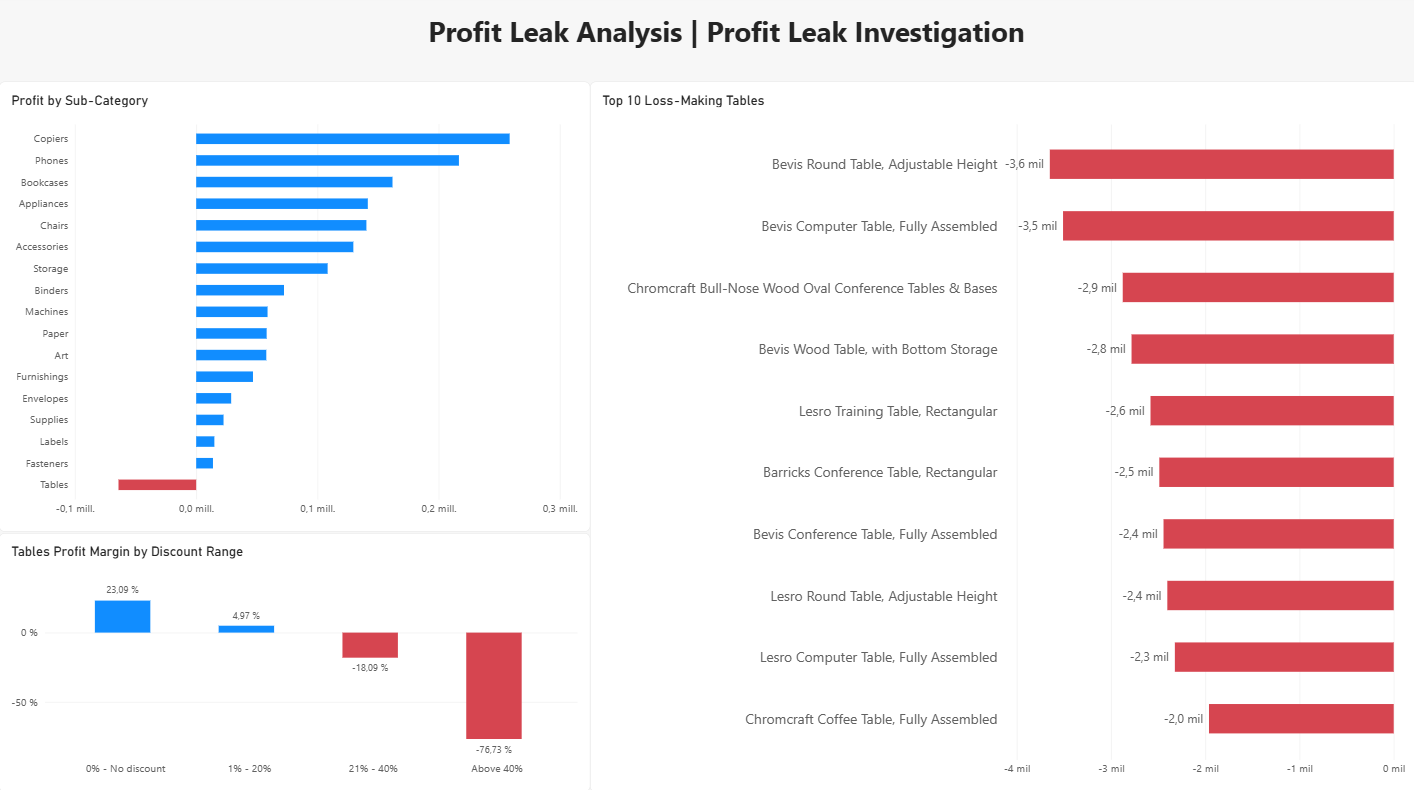

This screenshot's page, from the dashboard's own definition file:
{"tool":"powerbi","page":{"name":"Profit Leak Investigation","canvas":[1920,1080],"ordinal":1},"visuals":[{"type":"barChart","title":"Profit by Sub-Category","fields":{"Category":["profit_leak_analysis orders_clean.sub_category"],"Y":["profit_leak_analysis orders_clean.Total Profit"]},"box":[0,120.4,799.5,608.7],"z":0},{"type":"columnChart","title":"Tables Profit Margin by Discount Range","fields":{"Category":["profit_leak_analysis orders_clean.Discount Group"],"Y":["profit_leak_analysis orders_clean.Profit Margin"]},"box":[0,729.1,799.5,349.8],"z":1000},{"type":"barChart","title":"Top 10 Loss-Making Tables","fields":{"Category":["profit_leak_analysis orders_clean.product_name"],"Y":["profit_leak_analysis orders_clean.Total Profit"]},"box":[799.5,120.4,1119.8,960.8],"z":2000},{"type":"textbox","box":[100,100,300,300],"z":3000},{"type":"textbox","box":[399.8,27.3,1167.5,72.7],"z":4000}]}

Visuals, with their boxes in screenshot pixels (x1, y1, x2, y2), scaled from the page's 1920x1080 canvas onto the 1414x790 screenshot:
"Profit by Sub-Category" barChart: <box>0,88,589,533</box>
"Tables Profit Margin by Discount Range" columnChart: <box>0,533,589,789</box>
"Top 10 Loss-Making Tables" barChart: <box>589,88,1413,789</box>
textbox: <box>74,73,295,293</box>
textbox: <box>294,20,1154,73</box>
